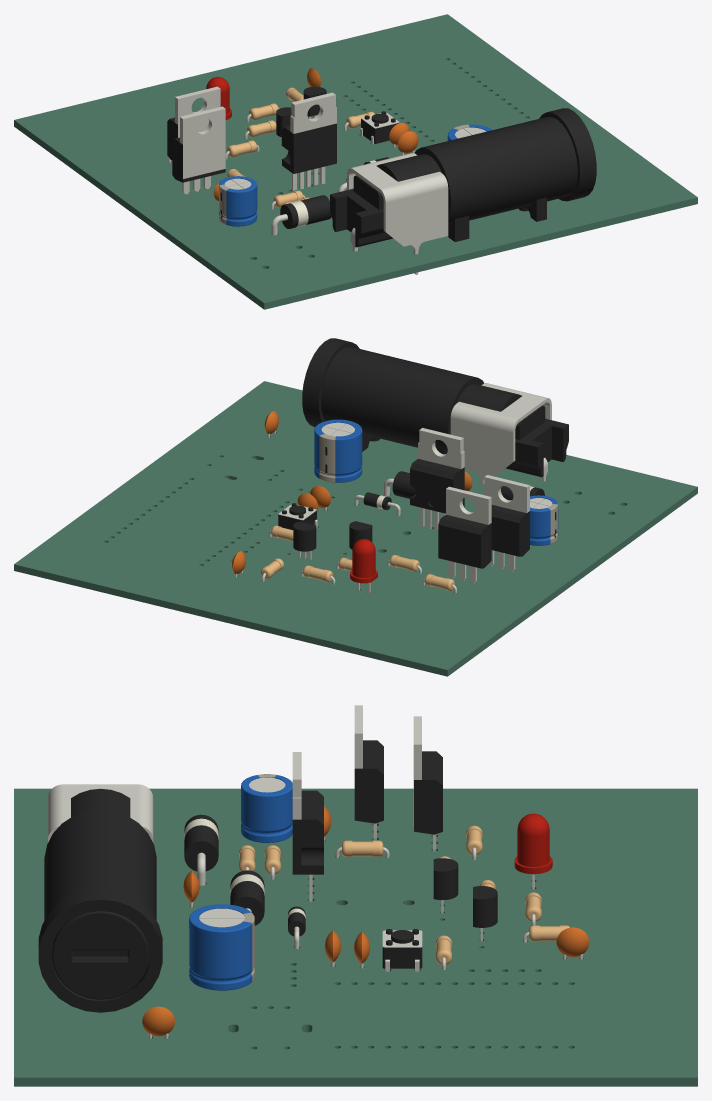
File: reflow_board.glb
3 views of the same model, one above another, from view 1: azimuth 30°, elevation 25°; view 2: azimuth 150°, elevation 25°; view 3: azimuth 270°, elevation 25° (orthographic). The views are drawn at different scales.
Visible parts, largest first — view 1: =>[0:1:1:27], =>[0:1:1:23], =>[0:1:1:3] (×2), =>[0:1:1:25], =>[0:1:1:19], =>[0:1:1:15], =>[0:1:1:5], =>[0:1:1:7]; view 2: =>[0:1:1:27], =>[0:1:1:23], =>[0:1:1:3] (×2), =>[0:1:1:25], =>[0:1:1:21], =>[0:1:1:19], =>[0:1:1:7], =>[0:1:1:17], =>[0:1:1:5], =>[0:1:1:15]; view 3: =>[0:1:1:27], =>[0:1:1:23], =>[0:1:1:3] (×2), =>[0:1:1:21], =>[0:1:1:19], =>[0:1:1:15] (×2), =>[0:1:1:25], =>[0:1:1:17] (×2), =>[0:1:1:7], =>[0:1:1:11] (×2), =>[0:1:1:5], =>[0:1:1:9].
Boxes of the visible parts, x1=… form: =>[0:1:1:27]: x1=14, y1=14, x2=697, y2=309; =>[0:1:1:23]: x1=330, y1=108, x2=596, y2=274; =>[0:1:1:3] (×2): x1=167, y1=86, x2=225, y2=194; =>[0:1:1:25]: x1=282, y1=92, x2=336, y2=191; =>[0:1:1:19]: x1=219, y1=176, x2=257, y2=226; =>[0:1:1:15]: x1=271, y1=195, x2=331, y2=235; =>[0:1:1:5]: x1=360, y1=111, x2=399, y2=144; =>[0:1:1:7]: x1=206, y1=77, x2=231, y2=119; =>[0:1:1:27]: x1=14, y1=381, x2=697, y2=676; =>[0:1:1:23]: x1=302, y1=338, x2=568, y2=484; =>[0:1:1:3] (×2): x1=438, y1=475, x2=529, y2=583; =>[0:1:1:25]: x1=410, y1=428, x2=464, y2=529; =>[0:1:1:21]: x1=314, y1=419, x2=362, y2=482; =>[0:1:1:19]: x1=530, y1=495, x2=558, y2=545; =>[0:1:1:7]: x1=350, y1=539, x2=377, y2=593; =>[0:1:1:17]: x1=293, y1=521, x2=316, y2=559; =>[0:1:1:5]: x1=277, y1=503, x2=317, y2=529; =>[0:1:1:15]: x1=383, y1=471, x2=415, y2=498; =>[0:1:1:27]: x1=14, y1=788, x2=697, y2=1086; =>[0:1:1:23]: x1=38, y1=784, x2=162, y2=1012; =>[0:1:1:3] (×2): x1=354, y1=705, x2=442, y2=851; =>[0:1:1:21]: x1=189, y1=904, x2=254, y2=990; =>[0:1:1:19]: x1=241, y1=774, x2=292, y2=842; =>[0:1:1:15] (×2): x1=184, y1=814, x2=264, y2=925; =>[0:1:1:25]: x1=292, y1=752, x2=323, y2=901; =>[0:1:1:17] (×2): x1=433, y1=858, x2=497, y2=941; =>[0:1:1:7]: x1=514, y1=813, x2=552, y2=889; =>[0:1:1:11] (×2): x1=142, y1=927, x2=589, y2=1038; =>[0:1:1:5]: x1=382, y1=929, x2=422, y2=971; =>[0:1:1:9]: x1=335, y1=840, x2=389, y2=857.
Size of the model in its own units: 0.104 by 0.0306 by 0.104.
